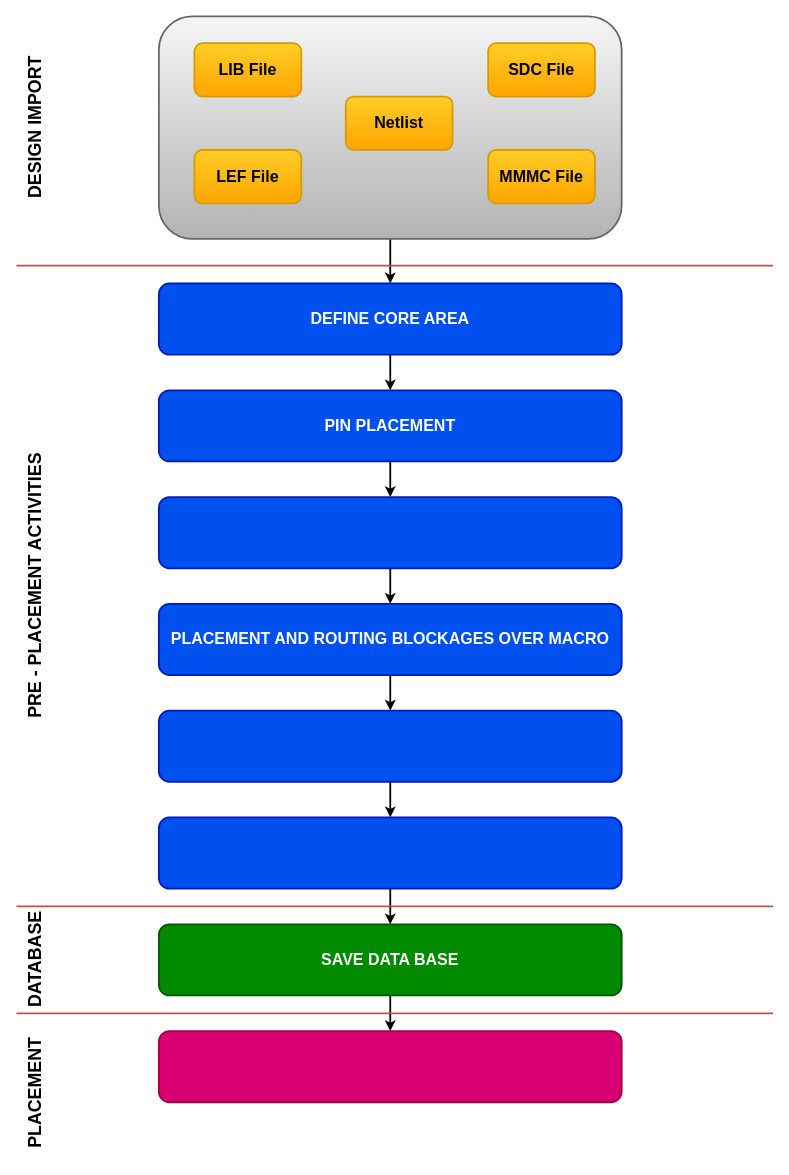
The diagram is 789 pixels wide and 1175 high, and some of its shapes have lost their labels. Here are the shapes that lost their labels. From the top down, the box of each, then its label:
(158, 496, 622, 569): MACRO PLACEMENT
(158, 709, 622, 782): PARTIAL PLACEMENT BLOCKAGE
(158, 816, 622, 889): POWER PLAN
(158, 1030, 622, 1103): PLACEMENT STAGE
